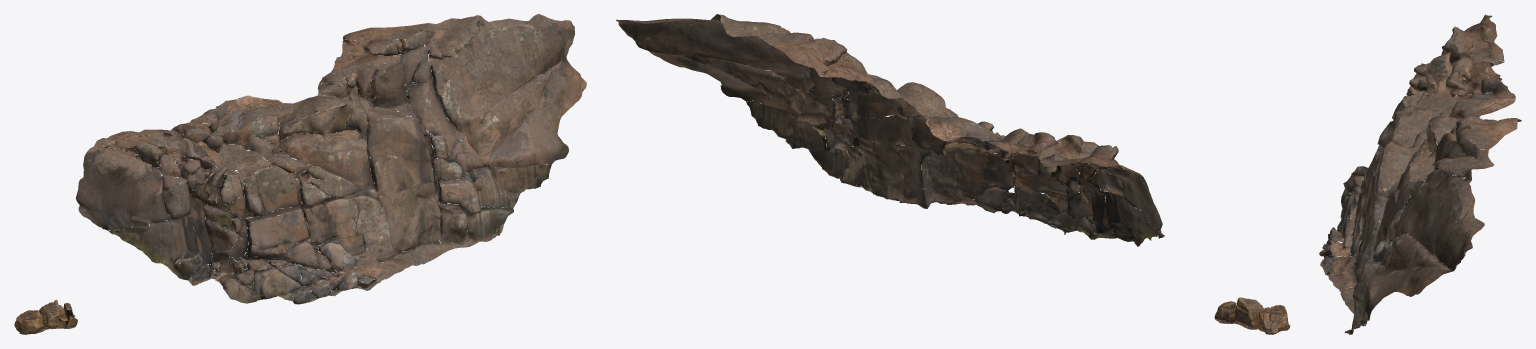
Rendered from rocks.glb.
The picture shows the model from 3 angles, left to right: view 1: azimuth 30°, elevation 25°; view 2: azimuth 150°, elevation 25°; view 3: azimuth 270°, elevation 25°; orthographic projection. The views are drawn at different scales.
Parts seen in each view (by area): view 1: cliff, boulder; view 2: cliff, boulder; view 3: cliff.
Part boxes in pixels (x1,y1,x2,y2): cliff: [75, 14, 586, 304]; boulder: [14, 300, 77, 334]; cliff: [616, 14, 1164, 246]; boulder: [1214, 297, 1290, 334]; cliff: [1319, 14, 1521, 334].
Bounding box in the file's own units: 23.74 × 7.19 × 6.61.
Materials: 2 (2 with a texture image).
